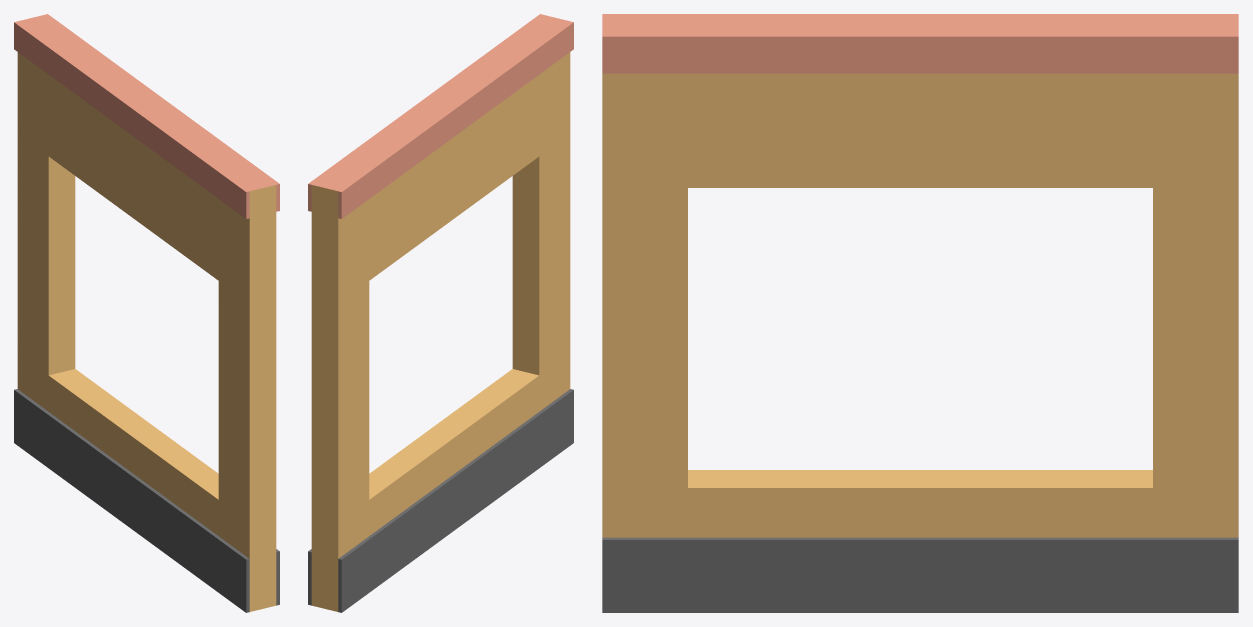
Rendered from Wall05.fbx.
3 renders of one model, left to right at view 1: azimuth 30°, elevation 25°; view 2: azimuth 150°, elevation 25°; view 3: azimuth 270°, elevation 25°, orthographic. The views are drawn at different scales.
Visible parts, largest first — view 1: Wall05; view 2: Wall05; view 3: Wall05.
Part boxes in pixels (x1=…): Wall05: x1=14, y1=14, x2=279, y2=612; Wall05: x1=308, y1=14, x2=573, y2=612; Wall05: x1=602, y1=14, x2=1238, y2=612.
Bounding box in the file's own units: 0.2519 × 3 × 3.
